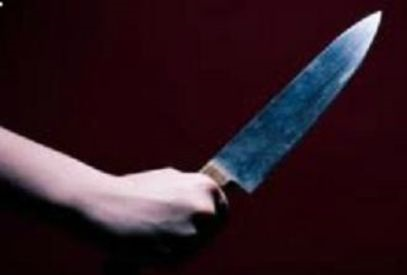knife: (175, 7, 385, 224)
